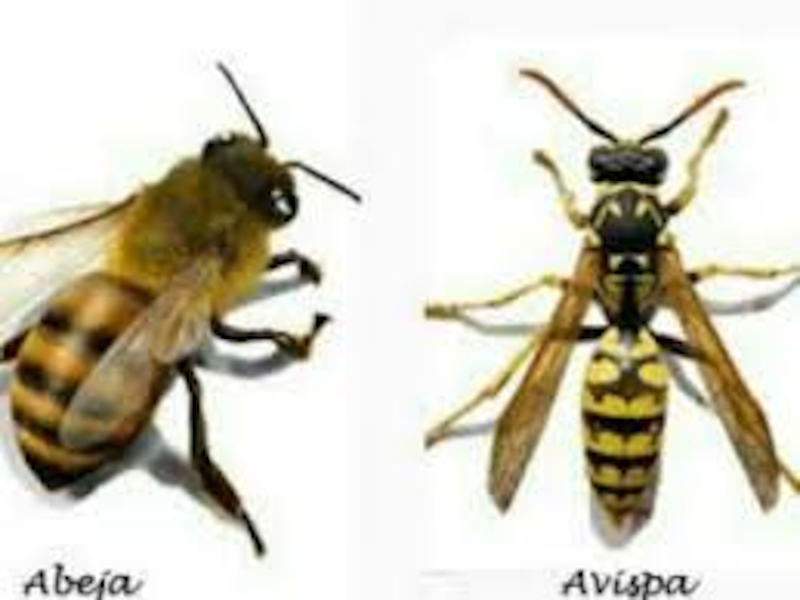abeja: (1, 48, 373, 558)
chax: (410, 42, 800, 522)
